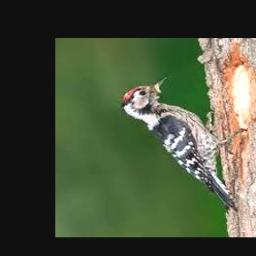Woodpecker: (120, 77, 246, 210)
